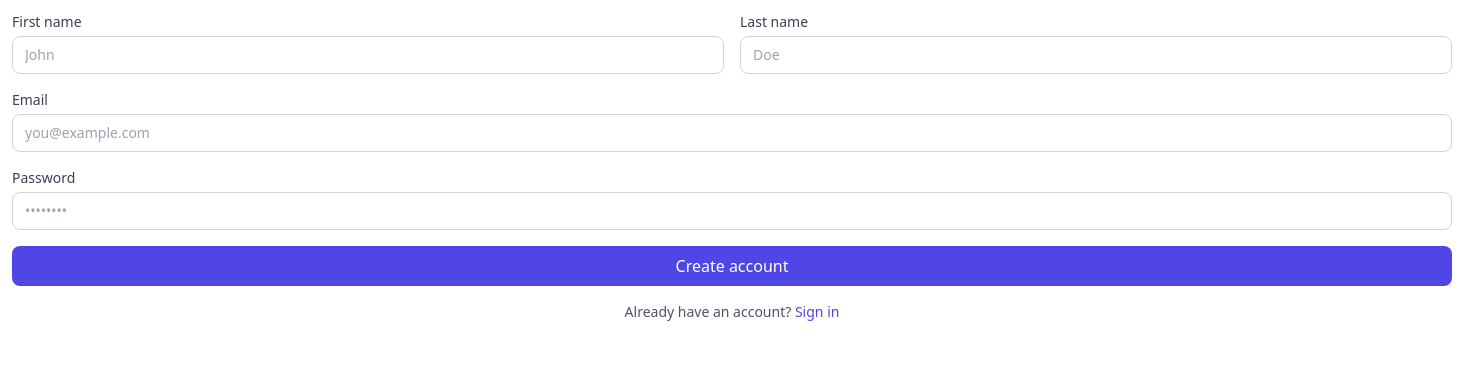
Scenario: RegisterForm › shows validation errors when submitting empty form
The image size is (1464, 378).
Click the button "Create account": (732,266) [12,246,1452,286]
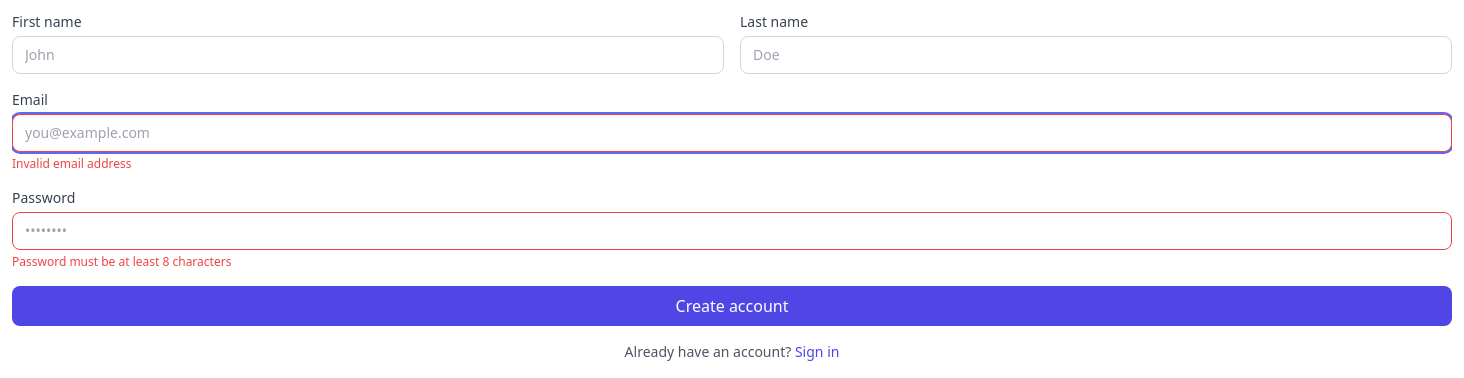
Result: the text "Invalid email address" is shown at [12,155,132,172]
Result: the text "Password must be at least 8 characters" is shown at [12,253,231,270]
